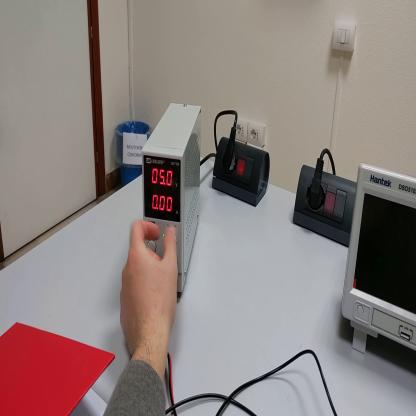hand: (120, 221, 179, 354)
oscilloscope: (341, 166, 415, 355)
power supply: (143, 103, 203, 295)
register: (2, 320, 116, 415)
socket: (292, 164, 358, 248), (212, 134, 271, 210)
